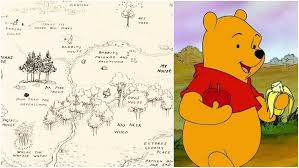Winnie: (194, 5, 275, 108)
